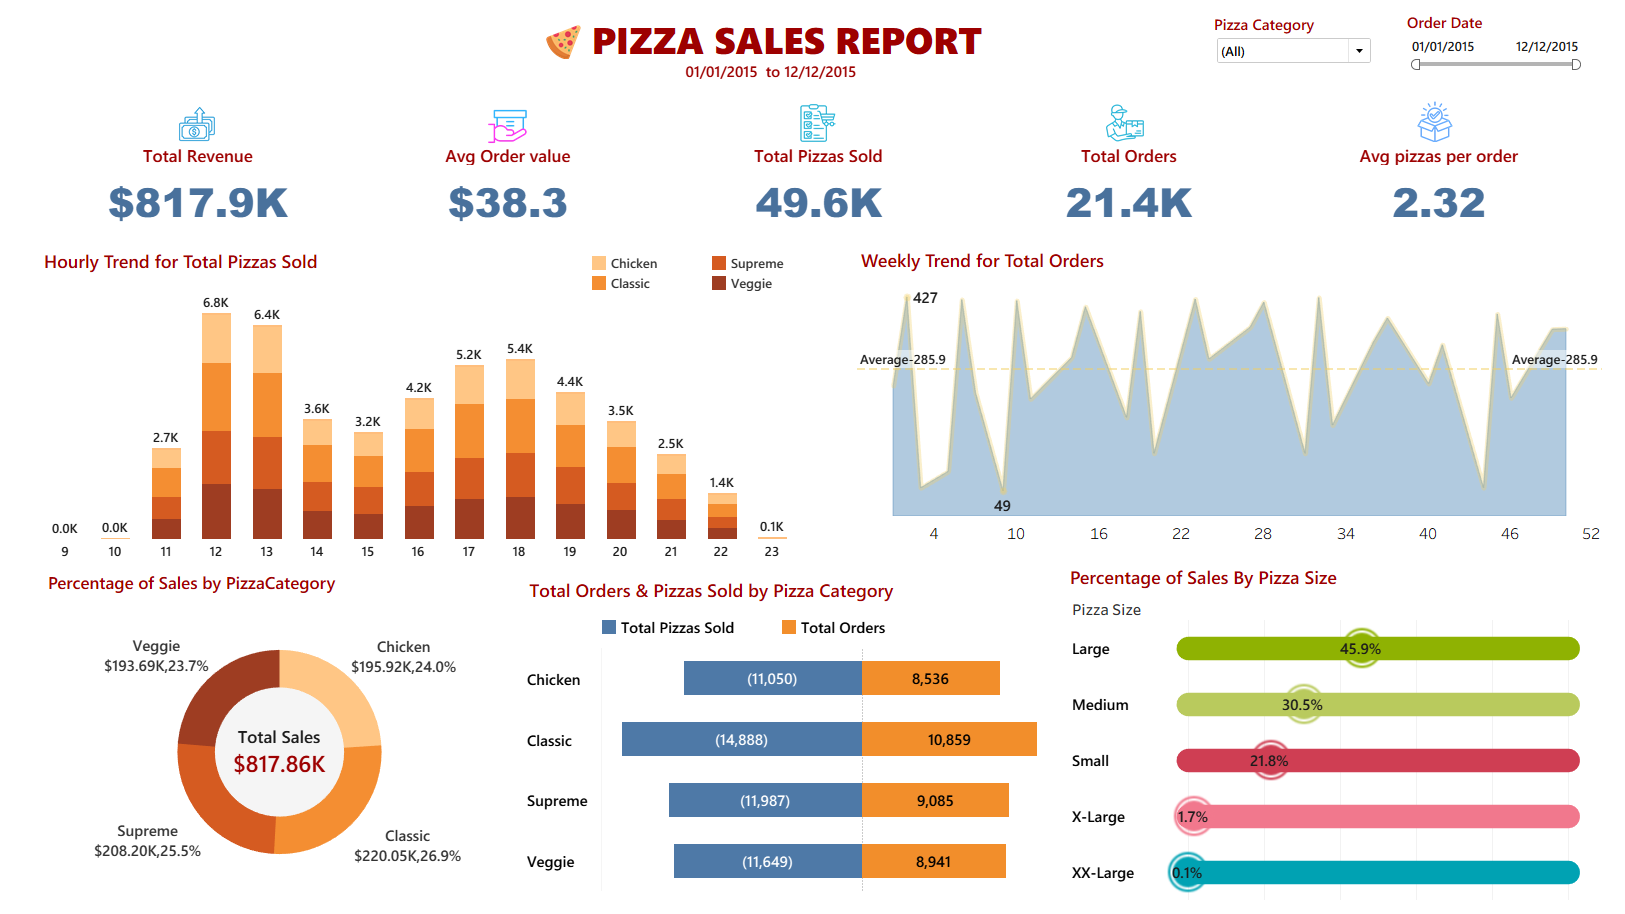

This screenshot's page, from the dashboard's own definition file:
{"tool":"tableau","page":{"name":"Home","canvas":[1600,900],"ordinal":0},"visuals":[{"type":"text","box":[404,11,706,58]},{"type":"filter","title":"Weekly Trend for Total Orders","param":"[federated.1xqf71o0uujx54199a7ed1nxytls].[none:order_date:qk]","box":[1377,13,178,60]},{"type":"filter","title":"Hourly Trend for Total Pizzas Sold","param":"[federated.1xqf71o0uujx54199a7ed1nxytls].[none:pizza_category:nk]","box":[1184,15,160,64]},{"type":"image","param":"C:/Users/susmi/Downloads/pizza-slice.png","box":[507,25,53,36]},{"type":"worksheet","title":"Sheet 7","mark":"Automatic","box":[474,60,533,24]},{"type":"image","param":"C:/Users/susmi/Downloads/order (1).png","box":[1383,102,44,41]},{"type":"image","param":"C:/Users/susmi/Downloads/order-delivery.png","box":[768,103,39,41]},{"type":"image","param":"C:/Users/susmi/Downloads/profit-growth.png","box":[142,104,50,41]},{"type":"image","param":"C:/Users/susmi/Downloads/delivery-man.png","box":[1075,104,40,39]},{"type":"image","param":"C:/Users/susmi/Downloads/shipping-box.png","box":[452,105,51,44]},{"type":"worksheet","title":"KPI Banner","mark":"Automatic","box":[13,146,1551,93]},{"type":"worksheet","title":"Weekly Trend for Total Orders","mark":"Area","rows":["Calculation_1526416979898369","Calculation_1526416979898369"],"cols":["order_date"],"box":[827,245,745,300]},{"type":"worksheet","title":"Hourly Trend for Total Pizzas Sold","mark":"Bar","rows":["Calculation_1526416980365315","Calculation_1526416980365315"],"cols":["order_time"],"box":[10,246,758,316]},{"type":"legend","title":"Hourly Trend for Total Pizzas Sold","param":"[federated.1xqf71o0uujx54199a7ed1nxytls].[none:pizza_category:nk]","box":[559,254,253,55]},{"type":"worksheet","title":"Percentage of Sales By Pizza Size","mark":"Line","rows":["pizza_size"],"box":[1036,562,533,339]},{"type":"worksheet","title":"Percentage of Sales by PizzaCategory","mark":"Pie","rows":["Calculation_1526417026826246","Calculation_1526417026899976"],"box":[14,568,471,332]},{"type":"text","box":[496,576,371,30]},{"type":"legend","title":"Total Orders & Pizzas Sold by Pizza Category ","param":"[federated.1xqf71o0uujx54199a7ed1nxytls].[:Measure Names]","box":[569,618,434,29]},{"type":"worksheet","title":"Total Orders & Pizzas Sold by Pizza Category ","mark":"Automatic","rows":["pizza_category"],"box":[491,649,537,243]}]}

Visuals, with their boxes in screenshot pixels (x1, y1, x2, y2), scaled from the page's 1600x900 canvas onto the 1625x914 screenshot:
text: box=[410, 11, 1127, 70]
"Weekly Trend for Total Orders" filter: box=[1399, 13, 1579, 74]
"Hourly Trend for Total Pizzas Sold" filter: box=[1202, 15, 1365, 80]
image: box=[515, 25, 569, 62]
"Sheet 7" worksheet: box=[481, 61, 1023, 85]
image: box=[1405, 104, 1449, 145]
image: box=[780, 105, 820, 146]
image: box=[144, 106, 195, 147]
image: box=[1092, 106, 1132, 145]
image: box=[459, 107, 511, 151]
"KPI Banner" worksheet: box=[13, 148, 1588, 243]
"Weekly Trend for Total Orders" worksheet (Area marks): box=[840, 249, 1597, 553]
"Hourly Trend for Total Pizzas Sold" worksheet (Bar marks): box=[10, 250, 780, 571]
"Hourly Trend for Total Pizzas Sold" legend: box=[568, 258, 825, 314]
"Percentage of Sales By Pizza Size" worksheet (Line marks): box=[1052, 571, 1594, 913]
"Percentage of Sales by PizzaCategory" worksheet (Pie marks): box=[14, 577, 493, 913]
text: box=[504, 585, 881, 615]
"Total Orders & Pizzas Sold by Pizza Category " legend: box=[578, 628, 1019, 657]
"Total Orders & Pizzas Sold by Pizza Category " worksheet: box=[499, 659, 1044, 906]
